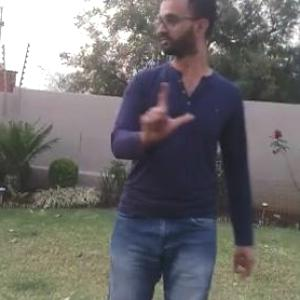land_hand: (136, 77, 195, 149)
